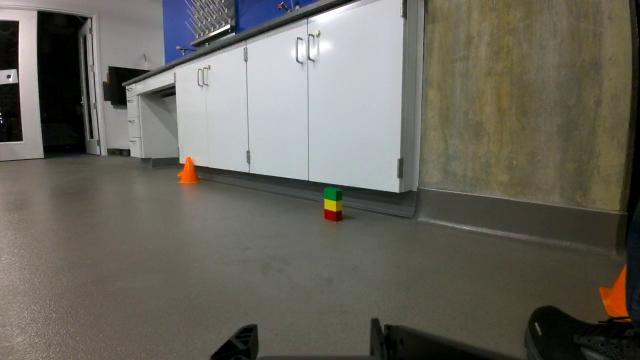lego: (320, 182, 349, 226)
